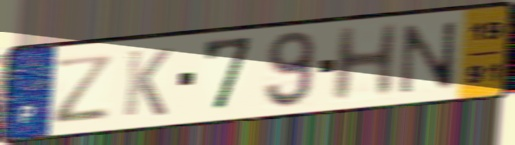7: (201, 35, 254, 116)
9: (261, 29, 320, 110)
H: (327, 20, 403, 106)
K: (120, 45, 175, 119)
N: (398, 19, 459, 97)
Z: (53, 52, 118, 126)
